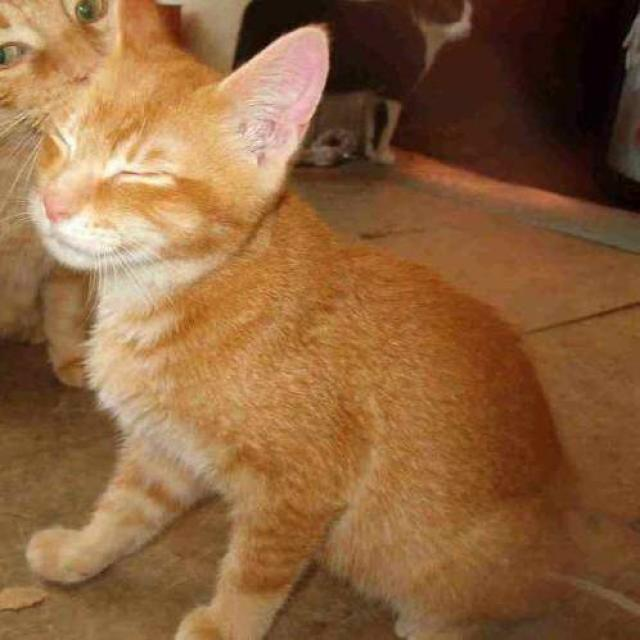cat: (14, 0, 639, 639)
